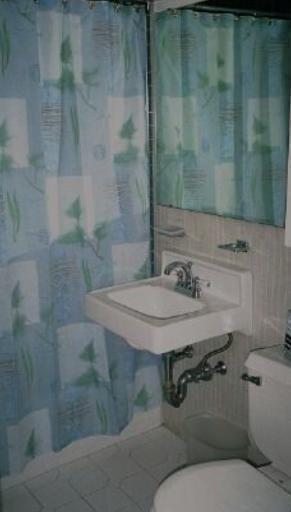Ducha: (0, 0, 162, 431)
Lavamanos: (84, 251, 258, 354)
Sanitario: (149, 335, 291, 512)
